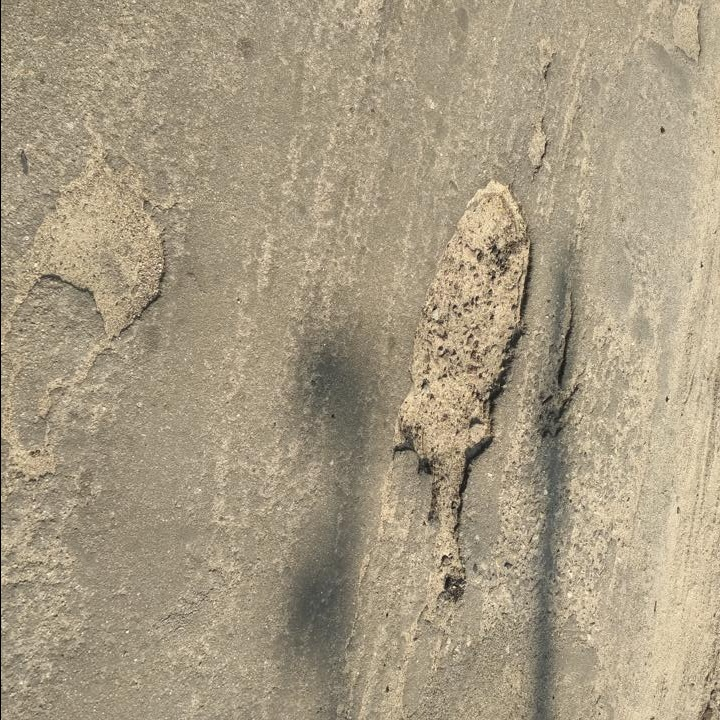pothole: (389, 173, 539, 606), (9, 171, 170, 342), (532, 283, 584, 443), (668, 0, 709, 66), (527, 116, 553, 171)
